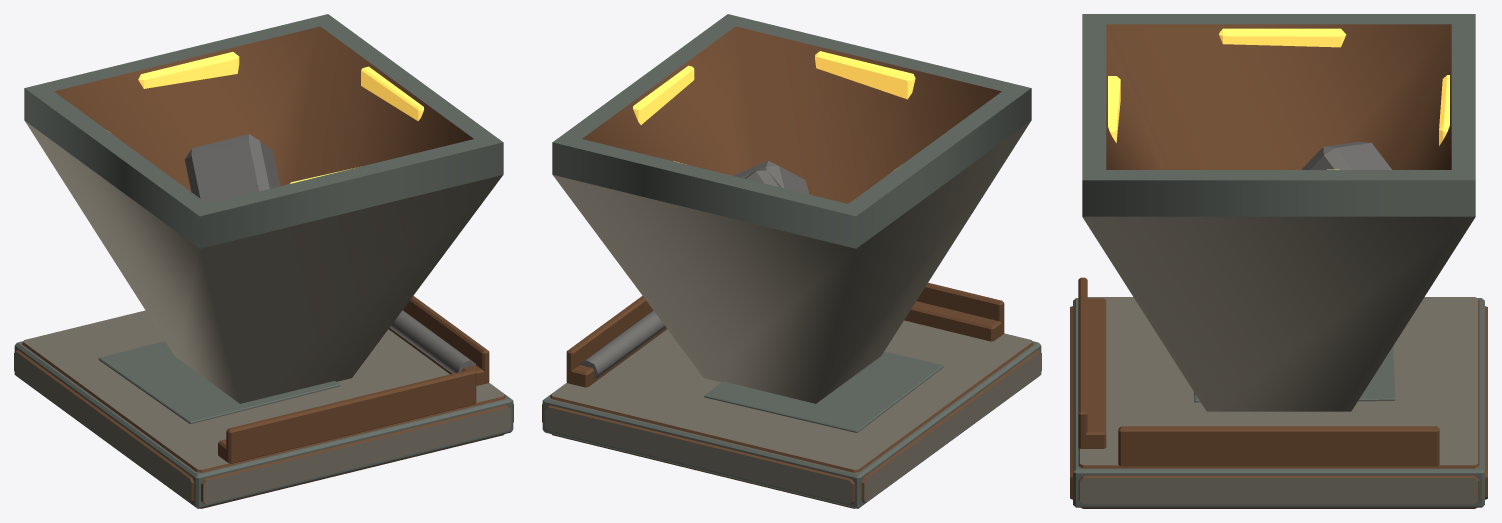
The model's file is R4X_SalvageOptimizer.fbx.
3 views of the same model, side by side, from view 1: azimuth 30°, elevation 25°; view 2: azimuth 150°, elevation 25°; view 3: azimuth 270°, elevation 25° (orthographic). The views are drawn at different scales.
Visible parts, largest first — view 1: R4X_SalvageOptimizer_Body; view 2: R4X_SalvageOptimizer_Body; view 3: R4X_SalvageOptimizer_Body.
Boxes of the visible parts, x1=… form: R4X_SalvageOptimizer_Body: x1=14, y1=14, x2=513, y2=508; R4X_SalvageOptimizer_Body: x1=542, y1=14, x2=1041, y2=508; R4X_SalvageOptimizer_Body: x1=1070, y1=14, x2=1487, y2=508.
Bounding box in the file's own units: 0.52 × 0.45 × 0.52.
